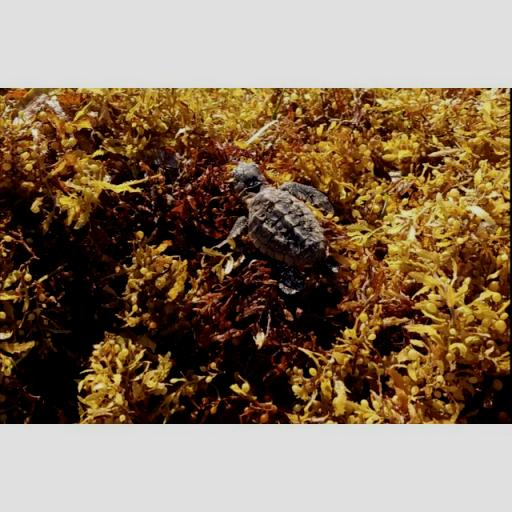turtle: (218, 162, 339, 294)
